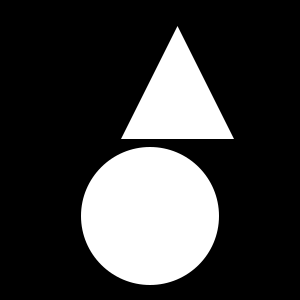rectangle: (81, 147, 219, 285)
triangle: (121, 26, 234, 139)
